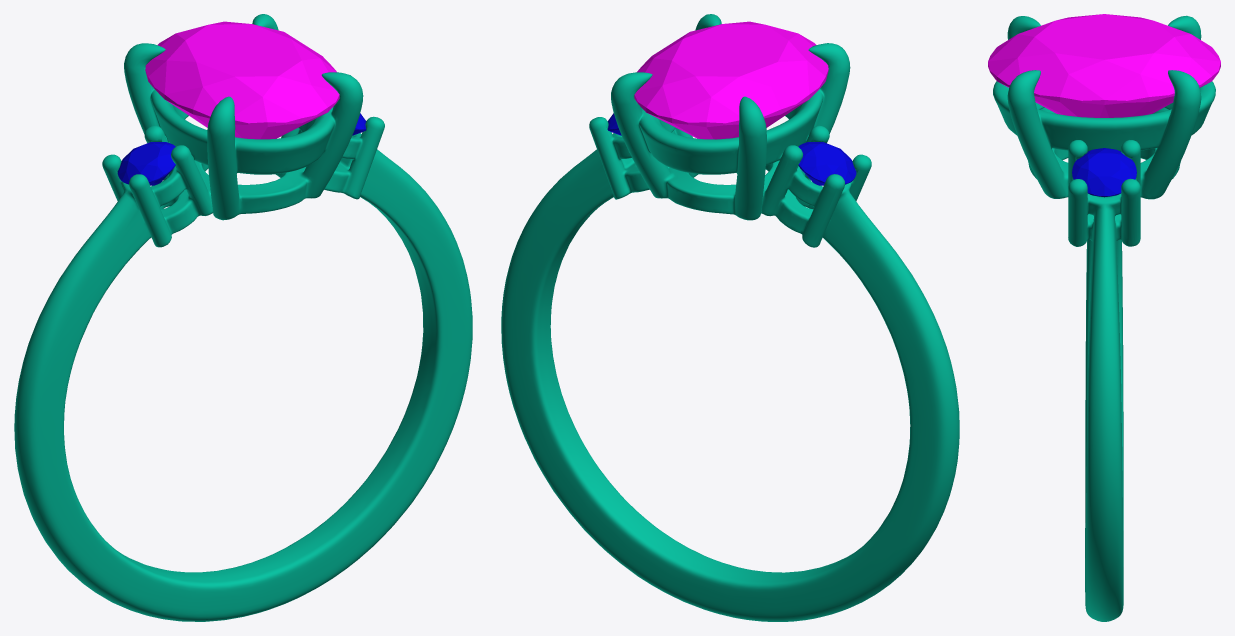
The model's file is BE1D225_OV_200ct_RENDER.glb.
3 renders of one model, left to right at view 1: azimuth 30°, elevation 25°; view 2: azimuth 150°, elevation 25°; view 3: azimuth 270°, elevation 25°, orthographic.
Visible parts, largest first — view 1: Metal 01, CS_Diamond_Oval, Diamond_Round_side.001; view 2: Metal 01, CS_Diamond_Oval, Diamond_Round_side.001; view 3: Metal 01, CS_Diamond_Oval, Diamond_Round_side.
Part boxes in pixels (x1,y1,x2,y2): Metal 01: (14, 14, 472, 621); CS_Diamond_Oval: (145, 21, 339, 139); Diamond_Round_side.001: (117, 142, 175, 185); Metal 01: (501, 14, 959, 621); CS_Diamond_Oval: (634, 21, 828, 139); Diamond_Round_side.001: (798, 142, 856, 185); Metal 01: (993, 15, 1215, 621); CS_Diamond_Oval: (988, 14, 1220, 117); Diamond_Round_side: (1072, 148, 1136, 197).
Bounding box in the file's own units: 20.11 × 23.9 × 9.
